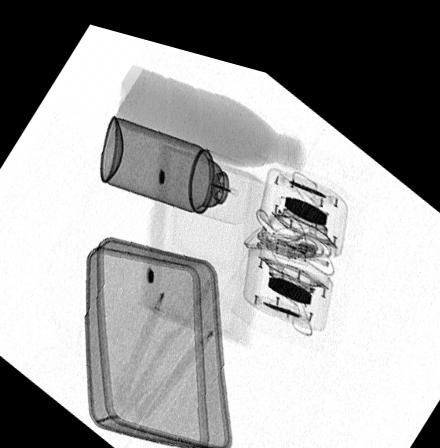Sprayer: (100, 107, 254, 213)
